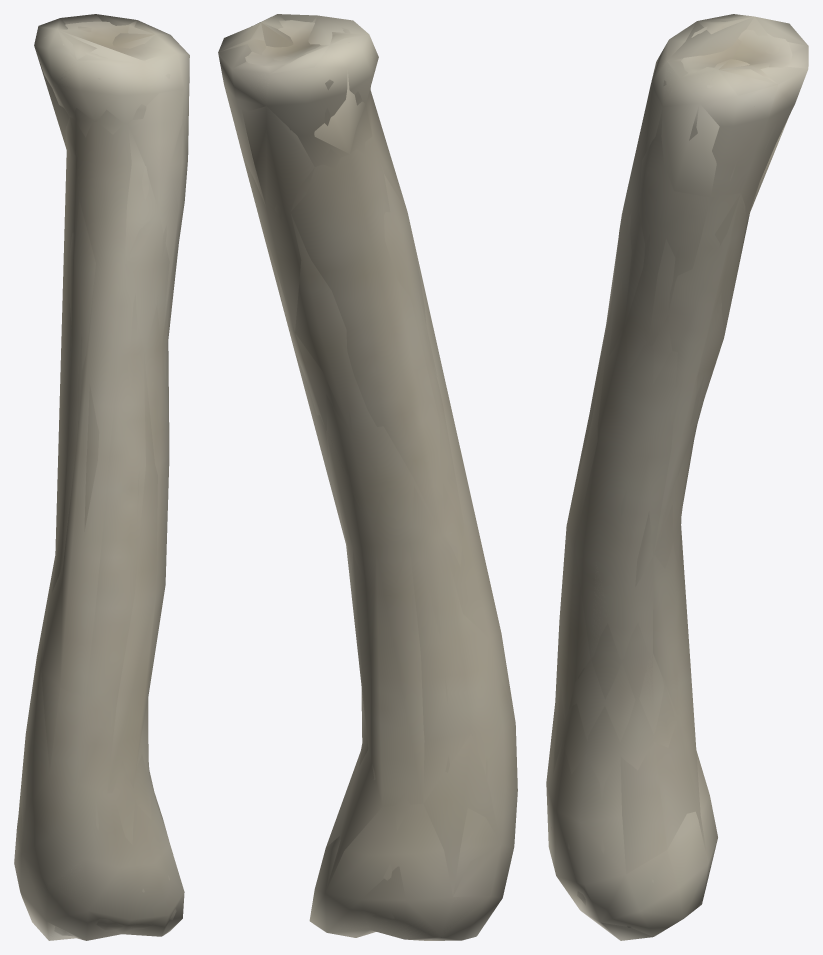
File: L metacarpi secundum.fbx
The picture shows the model from 3 angles, left to right: view 1: azimuth 30°, elevation 25°; view 2: azimuth 150°, elevation 25°; view 3: azimuth 270°, elevation 25°; orthographic projection. The views are drawn at different scales.
Parts seen in each view (by area): view 1: L metacarpi secundum, L metacarpi secundum low, L metacarpi secundum high; view 2: L metacarpi secundum low, L metacarpi secundum, L metacarpi secundum high; view 3: L metacarpi secundum, L metacarpi secundum low, L metacarpi secundum high.
Boxes of the visible parts, left/top/right/bottom form: L metacarpi secundum: left=14, top=14, right=189, bottom=940; L metacarpi secundum low: left=14, top=14, right=189, bottom=940; L metacarpi secundum high: left=24, top=21, right=185, bottom=936; L metacarpi secundum low: left=218, top=14, right=515, bottom=938; L metacarpi secundum: left=218, top=14, right=517, bottom=940; L metacarpi secundum high: left=233, top=20, right=502, bottom=939; L metacarpi secundum: left=546, top=14, right=808, bottom=939; L metacarpi secundum low: left=555, top=16, right=808, bottom=940; L metacarpi secundum high: left=551, top=26, right=792, bottom=927.
Bounding box in the file's own units: 0.4081 × 1.67 × 0.4407.
Materials: 1 (1 with a texture image).
